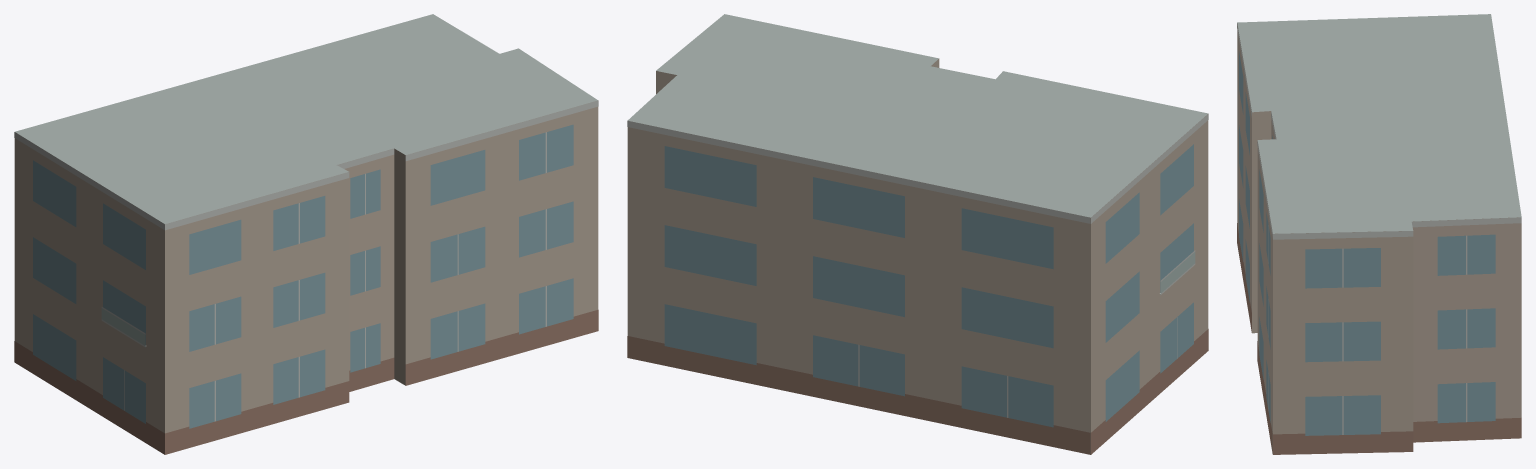
The model's file is survey-upis-32913610.glb.
3 views of the same model, side by side, from view 1: azimuth 30°, elevation 25°; view 2: azimuth 150°, elevation 25°; view 3: azimuth 270°, elevation 25° (orthographic). The views are drawn at different scales.
Parts seen in each view (by area): view 1: survey-upis-32913610.tmp; view 2: survey-upis-32913610.tmp; view 3: survey-upis-32913610.tmp.
Part boxes in pixels (x1,y1,x2,y2): survey-upis-32913610.tmp: [14, 14, 598, 454]; survey-upis-32913610.tmp: [627, 14, 1208, 454]; survey-upis-32913610.tmp: [1237, 14, 1521, 454].
Bounding box in the file's own units: 19.52 × 9.15 × 10.68.
